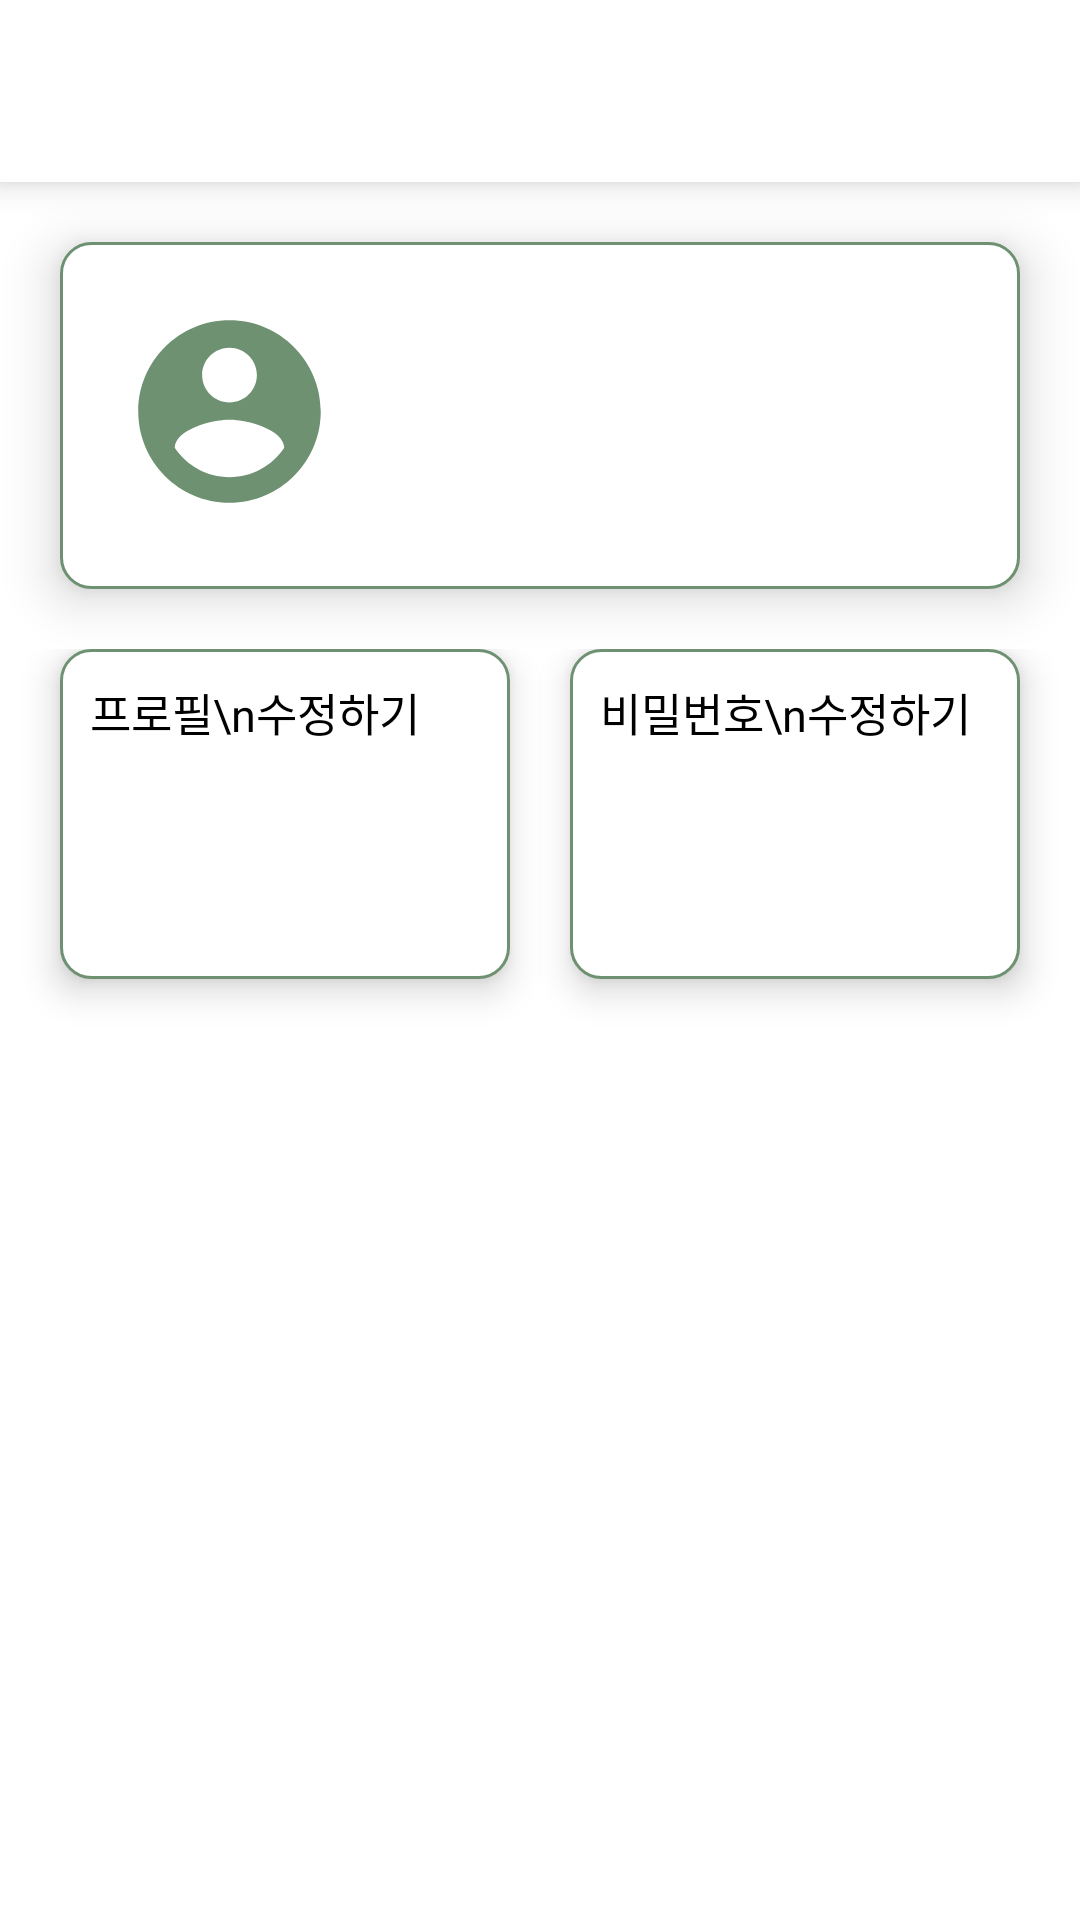

Icon bounding boxes for this 1080 × 1920 phone screenshot, format (left=x1, top=y1, right=x2, bottom=y2):
account circle: (left=138, top=320, right=321, bottom=503)
